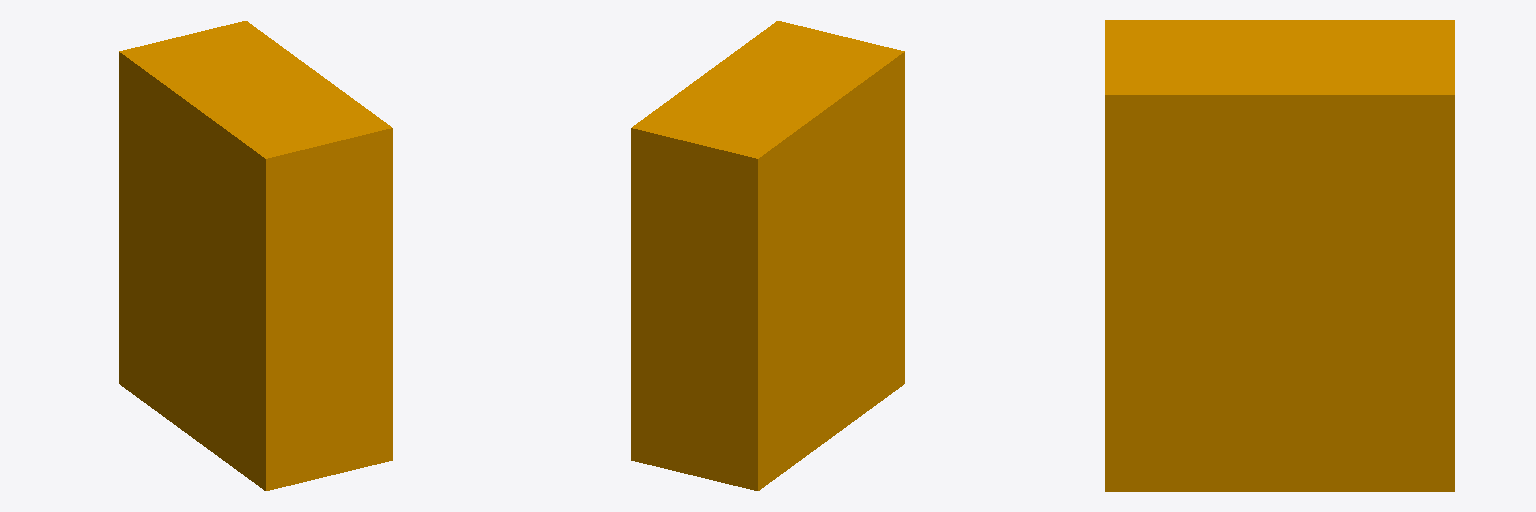
URDF robot description (cuboid):
<?xml version="1.0"?>
<robot name="cuboid">
  <link name="base_link">

    <collision>
      <geometry>
        <box size="2 4 5"/>
      </geometry>
    </collision>

    <inertial>
      <mass value="2"/>
    	<inertia ixx="0.333" ixy="0" ixz="0" iyy="0.833" iyz="0" izz="0.833"/>
  	</inertial>

    <visual>
      <geometry>
        <box size="2 4 5"/>
      </geometry>
    </visual>

  </link>
</robot>

--- Render facts (derived) ---
The picture shows the robot from 3 angles, left to right: view 1: azimuth 30°, elevation 25°; view 2: azimuth 150°, elevation 25°; view 3: azimuth 270°, elevation 25°; orthographic projection.
Model cuboid with 1 links and 0 joints (none), rooted at base_link, posed all joints at 0.
Visible links, largest first — view 1: base_link; view 2: base_link; view 3: base_link.
Boxes of the visible links, left/top/right/bottom form: base_link: left=119, top=21, right=392, bottom=490; base_link: left=631, top=21, right=904, bottom=490; base_link: left=1105, top=20, right=1454, bottom=491.
Size in the robot's own frame: 2 by 4 by 5 metres.
Geometry: primitives only (box / cylinder / sphere), no mesh files.